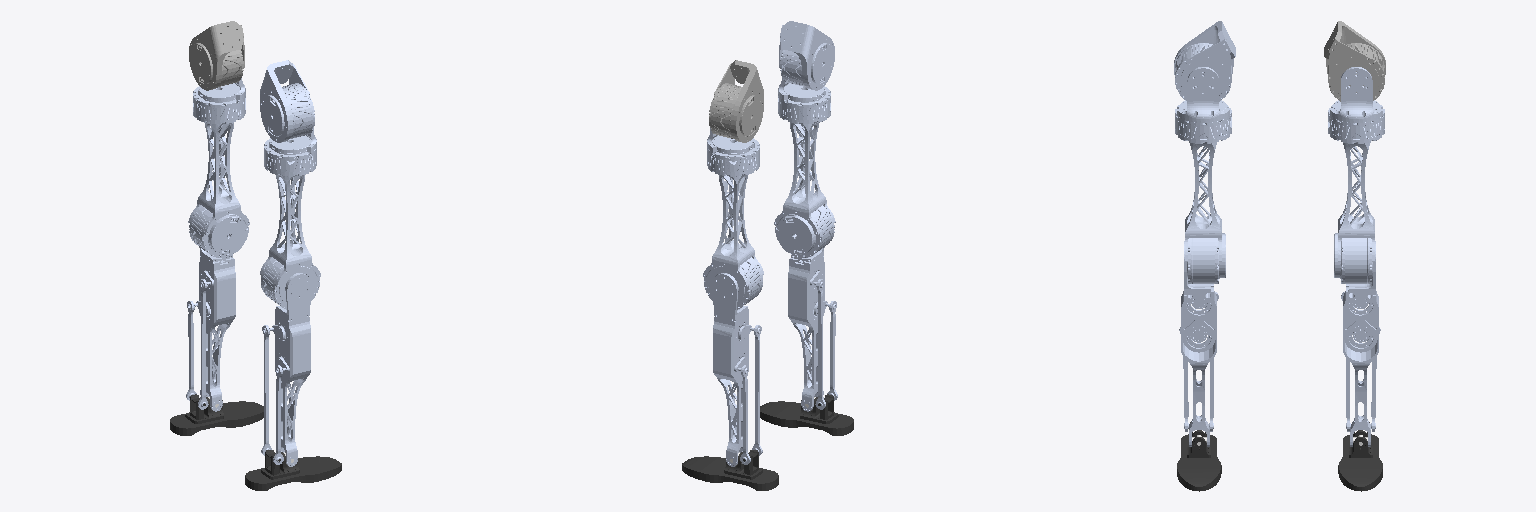
URDF robot description (Roboot1.6):
<?xml version="1.0" encoding="utf-8"?>
<!-- This URDF was automatically created by SolidWorks to URDF Exporter! Originally created by Stephen Brawner (brawner@gmail.com) 
     Commit Version: 1.6.0-4-g7f85cfe  Build Version: 1.6.7995.38578
     For more information, please see http://wiki.ros.org/sw_urdf_exporter -->
     

<robot
  name="Roboot1.6">
  <link
    name="base_link">
    <inertial>
      <origin
        xyz="0.00049152 -3.0954E-08 0.25629"
        rpy="0 0 0" />
      <mass
        value="31.023" />
      <inertia
        ixx="0.26899"
        ixy="4.7185E-10"
        ixz="-2.7449E-06"
        iyy="0.13808"
        iyz="1.2373E-10"
        izz="0.24725" />
    </inertial>
    <visual>
      <origin
        xyz="0 0 0"
        rpy="0 0 0" />
      <geometry>
        <mesh
          filename="meshes/base_link.STL" />
      </geometry>
      <material
        name="">
        <color
          rgba="0.75294 0.75294 0.75294 1" />
      </material>
    </visual>
    <collision>
      <origin
        xyz="0 0 0.21"
        rpy="0 0 0" />
      <geometry>
            <box size="0.2 0.21 0.35"/> <!-- x=30cm, y=20cm, z=40cm -->
            
        <!-- <mesh
          filename="meshes/base_link.STL" /> -->
      </geometry>
    </collision>
  </link>
  <link
    name="right_hip_pitch_link">
    <inertial>
      <origin
        xyz="-0.014554 -0.039773 -0.051175"
        rpy="0 0 0" />
      <mass
        value="2.634" />
      <inertia
        ixx="0.0019805"
        ixy="-0.00012178"
        ixz="-0.00016777"
        iyy="0.0013535"
        iyz="-0.0002698"
        izz="0.00098674" />
    </inertial>
    <visual>
      <origin
        xyz="0 0 0"
        rpy="0 0 0" />
      <geometry>
        <mesh
          filename="meshes/left_hip_pitch_link.STL" />
      </geometry>
      <material
        name="">
        <color
          rgba="0.86667 0.9098 1 1" />
      </material>
    </visual>
    <collision>
      <origin
        xyz="-0.06 -0.06 -0.08"
        rpy="0 1.57 0" />
      <geometry>
         <cylinder radius="0.06" length="0.05"/>
      </geometry> 
    </collision>
  </link>
  <joint
    name="right_hip_pitch_joint"
    type="revolute">
    <origin
      xyz="0.00049158 -0.10845 0.059136"
      rpy="0 0 0" />
    <parent
      link="base_link" />
    <child
      link="right_hip_pitch_link" />
    <axis
      xyz="0 0.90631 0.42262" />
    <limit
      lower="-2.6"
      upper="2.6"
      effort="300"
      velocity="12" />
  </joint>
  <link
    name="right_hip_roll_link">
    <inertial>
      <origin
        xyz="0.0074434 -2.3963E-05 -0.070083"
        rpy="0 0 0" />
      <mass
        value="1.896" />
      <inertia
        ixx="0.00059031"
        ixy="2.2238E-07"
        ixz="1.9516E-05"
        iyy="0.00047163"
        iyz="-2.5199E-07"
        izz="0.00051393" />
    </inertial>
    <visual>
      <origin
        xyz="0 0 0"
        rpy="0 0 0" />
      <geometry>
        <mesh
          filename="meshes/left_hip_roll_link.STL" />
      </geometry>
      <material
        name="">
        <color
          rgba="0.86667 0.9098 1 1" />
      </material>
    </visual>
    <collision>
      <origin
        xyz="0.02 0 0"
        rpy="0 1.57 0" />
      <geometry>
         <cylinder radius="0.06" length="0.02"/>

        <!-- <mesh
          filename="meshes/left_hip_roll_link.STL" /> -->
      </geometry>
    </collision>
  </link>
  <joint
    name="right_hip_roll_joint"
    type="revolute">
    <origin
      xyz="0.019165 -0.058655 -0.083623"
      rpy="0 0 0" />
    <parent
      link="right_hip_pitch_link" />
    <child
      link="right_hip_roll_link" />
    <axis
      xyz="-1 0 0" />
    <limit
      lower="-0.8"
      upper="2"
      effort="300"
      velocity="12" />
  </joint>
  <link
    name="right_hip_yaw_link">
    <inertial>
      <origin
        xyz="5.0405E-05 0.003536 -0.17718"
        rpy="0 0 0" />
      <mass
        value="2.865" />
      <inertia
        ixx="0.0068188"
        ixy="-1.4863E-07"
        ixz="-2.1427E-06"
        iyy="0.0070209"
        iyz="-4.9146E-07"
        izz="0.00093183" />
    </inertial>
    <visual>
      <origin
        xyz="0 0 0"
        rpy="0 0 0" />
      <geometry>
        <mesh
          filename="meshes/left_hip_yaw_link.STL" />
      </geometry>
      <material
        name="">
        <color
          rgba="0.86667 0.9098 1 1" />
      </material>
    </visual>
    <collision>
      <origin
        xyz="0 0 -0.1"
        rpy="0 0 0" />
      <geometry>
          <cylinder radius="0.07" length="0.3"/>

        <!-- <mesh
          filename="meshes/left_hip_yaw_link.STL" /> -->
      </geometry>
    </collision>
  </link>
  <joint
    name="right_hip_yaw_joint"
    type="revolute">
    <origin
      xyz="-0.017415 -0.0036252 -0.14039"
      rpy="0 0 0" />
    <parent
      link="right_hip_roll_link" />
    <child
      link="right_hip_yaw_link" />
    <axis
      xyz="0 0 1" />
    <limit
      lower="-2.6"
      upper="2.6"
      effort="300"
      velocity="12" />
  </joint>
  <link
    name="right_knee_link">
    <inertial>
      <origin
        xyz="-0.01609 0.029412 -0.20201"
        rpy="0 0 0" />
      <mass
        value="2.161" />
      <inertia
        ixx="0.011592"
        ixy="-1.0478E-06"
        ixz="-0.00020792"
        iyy="0.011377"
        iyz="1.7782E-05"
        izz="0.00074756" />
    </inertial>
    <visual>
      <origin
        xyz="0 0 0"
        rpy="0 0 0" />
      <geometry>
        <mesh
          filename="meshes/left_knee_link.STL" />
      </geometry>
      <material
        name="">
        <color
          rgba="0.86667 0.9098 1 1" />
      </material>
    </visual>
    <collision>
      <origin
        xyz="0 0.03 -0.25"
        rpy="0 0 0" />
      <geometry>
           <box size="0.13 0.1 0.35"/>
        <!-- <mesh
          filename="meshes/left_knee_link.STL" /> -->
      </geometry>
    </collision>
  </link>
  <joint
    name="right_knee_joint"
    type="revolute">
    <origin
      xyz="0 -0.0365 -0.298"
      rpy="0 0 0" />
    <parent
      link="right_hip_yaw_link" />
    <child
      link="right_knee_link" />
    <axis
      xyz="0 1 0" />
    <limit
      lower="-0.2"
      upper="1.8"
      effort="300"
      velocity="12" />
  </joint>
  <link
    name="right_ankle_pitch_link">
    <inertial>
      <origin
        xyz="-2.575E-10 -3.6336E-10 4.3692E-12"
        rpy="0 0 0" />
      <mass
        value="0.007" />
      <inertia
        ixx="7.8505E-07"
        ixy="-7.0875E-18"
        ixz="6.7804E-09"
        iyy="5.3402E-07"
        iyz="-4.1848E-16"
        izz="1.1853E-06" />
    </inertial>
    <visual>
      <origin
        xyz="0 0 0"
        rpy="0 0 0" />
      <geometry>
        <mesh
          filename="meshes/left_ankle_pitch_link.STL" />
      </geometry>
      <material
        name="">
        <color
          rgba="1 1 1 1" />
      </material>
    </visual>
    <!-- <collision>
      <origin
        xyz="0 0 0.2"
        rpy="0 0 0" /> -->
      <!-- <geometry>
  
        <mesh
          filename="meshes/left_ankle_pitch_link.STL" />/
      </geometry> -->
    <!-- </collision> -->
  </link>
  <joint
    name="right_ankle_pitch_joint"
    type="revolute">
    <origin
      xyz="-0.013 0.030625 -0.44831"
      rpy="0 0 0" />
    <parent
      link="right_knee_link" />
    <child
      link="right_ankle_pitch_link" />
    <axis
      xyz="0 1 0" />
    <limit
      lower="-0.5"
      upper="1"
      effort="140"
      velocity="5" />
  </joint>
  <link
    name="right_ankle_roll_link">
    <inertial>
      <origin
        xyz="0.0084316 0.00010541 -0.0362"
        rpy="0 0 0" />
      <mass
        value="0.72" />
      <inertia
        ixx="0.00037256"
        ixy="-1.1182E-07"
        ixz="7.1661E-05"
        iyy="0.0023595"
        iyz="-8.0875E-07"
        izz="0.0026349" />
    </inertial>
    <visual>
      <origin
        xyz="0 0 0"
        rpy="0 0 0" />
      <geometry>
        <mesh
          filename="meshes/left_ankle_roll_link.STL" />
      </geometry>
      <material
        name="">
        <color
          rgba="0.29804 0.29804 0.29804 1" />
      </material>
    </visual>
    <collision>
      <origin
        xyz="0 0 0"
        rpy="0 0 0" />
      <geometry>
        <mesh
          filename="meshes/left_ankle_roll_link.STL" />
      </geometry>
    </collision>
  </link>
  <joint
    name="right_ankle_roll_joint"
    type="revolute">
    <origin
      xyz="-0.0023336 0 3.9519E-05"
      rpy="0 0 0" />
    <parent
      link="right_ankle_pitch_link" />
    <child
      link="right_ankle_roll_link" />
    <axis
      xyz="1 0 0" />
    <limit
      lower="-0.4"
      upper="0.4"
      effort="140"
      velocity="5" />
  </joint>
  <link
    name="left_hip_pitch_link">
    <inertial>
      <origin
        xyz="-0.014554 0.052688 -0.057198"
        rpy="0 0 0" />
      <mass
        value="2.634" />
      <inertia
        ixx="0.0019805"
        ixy="0.00012178"
        ixz="-0.00016777"
        iyy="0.0013535"
        iyz="0.0002698"
        izz="0.00098675" />
    </inertial>
    <visual>
      <origin
        xyz="0 0 0"
        rpy="0 0 0" />
      <geometry>
        <mesh
          filename="meshes/right_hip_pitch_link.STL" />
      </geometry>
      <material
        name="">
        <color
          rgba="0.75294 0.75294 0.75294 1" />
      </material>
    </visual>
    <collision>
      <origin
        xyz="-0.06 0.07 -0.09"
        rpy="0 1.57 0" />
      <geometry>
         <cylinder radius="0.06" length="0.05"/>
      </geometry>
    </collision>
  </link>
  <joint
    name="left_hip_pitch_joint"
    type="revolute">
    <origin
      xyz="0.00049158 0.095534 0.065158"
      rpy="0 0 0" />
    <parent
      link="base_link" />
    <child
      link="left_hip_pitch_link" />
    <axis
      xyz="0 0.90631 -0.42262" />
    <limit
      lower="-2.6"
      upper="2.6"
      effort="300"
      velocity="12" />
  </joint>
  <link
    name="left_hip_roll_link">
    <inertial>
      <origin
        xyz="0.023539 2.3928E-05 -0.070083"
        rpy="0 0 0" />
      <mass
        value="1.896" />
      <inertia
        ixx="0.00059031"
        ixy="-2.2205E-07"
        ixz="1.9516E-05"
        iyy="0.00047163"
        iyz="2.5191E-07"
        izz="0.00051393" />
    </inertial>
    <visual>
      <origin
        xyz="0 0 0"
        rpy="0 0 0" />
      <geometry>
        <mesh
          filename="meshes/right_hip_roll_link.STL" />
      </geometry>
      <material
        name="">
        <color
          rgba="0.86667 0.9098 1 1" />
      </material>
    </visual>
    <collision>
      <origin
        xyz="0.04 0 0"
        rpy="0 1.57 0" />
      <geometry>
         <cylinder radius="0.06" length="0.02"/>
      </geometry>
    </collision>
  </link>
  <joint
    name="left_hip_roll_joint"
    type="revolute">
    <origin
      xyz="0.0030702 0.07157 -0.089646"
      rpy="0 0 0" />
    <parent
      link="left_hip_pitch_link" />
    <child
      link="left_hip_roll_link" />
    <axis
      xyz="1 0 0" />
    <limit
      lower="-0.8"
      upper="2"
      effort="300"
      velocity="12" />
  </joint>
  <link
    name="left_hip_yaw_link">
    <inertial>
      <origin
        xyz="5.0461E-05 -0.003536 -0.17717"
        rpy="0 0 0" />
      <mass
        value="2.865" />
      <inertia
        ixx="0.0068188"
        ixy="1.4767E-07"
        ixz="-2.1419E-06"
        iyy="0.0070209"
        iyz="4.9022E-07"
        izz="0.00093183" />
    </inertial>
    <visual>
      <origin
        xyz="0 0 0"
        rpy="0 0 0" />
      <geometry>
        <mesh
          filename="meshes/right_hip_yaw_link.STL" />
      </geometry>
      <material
        name="">
        <color
          rgba="0.86667 0.9098 1 1" />
      </material>
    </visual>
    <collision>
      <origin
        xyz="0 0 -0.1"
        rpy="0 0 0" />
      <geometry>
          <cylinder radius="0.07" length="0.3"/>

      </geometry>
    </collision>
  </link>
  <joint
    name="left_hip_yaw_joint"
    type="revolute">
    <origin
      xyz="-0.0013202 0.0036252 -0.14039"
      rpy="0 0 0" />
    <parent
      link="left_hip_roll_link" />
    <child
      link="left_hip_yaw_link" />
    <axis
      xyz="0 0 -1" />
    <limit
      lower="-2.6"
      upper="2.6"
      effort="300"
      velocity="12" />
  </joint>
  <link
    name="left_knee_link">
    <inertial>
      <origin
        xyz="-0.01609 -0.028559 -0.2037"
        rpy="0 0 0" />
      <mass
        value="2.161" />
      <inertia
        ixx="0.011592"
        ixy="1.0477E-06"
        ixz="-0.00020792"
        iyy="0.011377"
        iyz="-1.778E-05"
        izz="0.00074756" />
    </inertial>
    <visual>
      <origin
        xyz="0 0 0"
        rpy="0 0 0" />
      <geometry>
        <mesh
          filename="meshes/right_knee_link.STL" />
      </geometry>
      <material
        name="">
        <color
          rgba="0.86667 0.9098 1 1" />
      </material>
    </visual>
    <collision>
      <origin
        xyz="0 -0.03 -0.25"
        rpy="0 0 0" />
      <geometry>
           <box size="0.13 0.1 0.35"/>
      </geometry>
    </collision>
  </link>
  <joint
    name="left_knee_joint"
    type="revolute">
    <origin
      xyz="0 0.035647 -0.29631"
      rpy="0 0 0" />
    <parent
      link="left_hip_yaw_link" />
    <child
      link="left_knee_link" />
    <axis
      xyz="0 1 0" />
    <limit
      lower="-0.2"
      upper="1.8"
      effort="300"
      velocity="12" />
  </joint>
  <link
    name="left_ankle_pitch_link">
    <inertial>
      <origin
        xyz="-2.575E-10 3.6334E-10 4.3607E-12"
        rpy="0 0 0" />
      <mass
        value="0.007" />
      <inertia
        ixx="7.8505E-07"
        ixy="-7.0887E-18"
        ixz="6.7804E-09"
        iyy="5.3402E-07"
        iyz="-4.1849E-16"
        izz="1.1853E-06" />
    </inertial>
    <visual>
      <origin
        xyz="0 0 0"
        rpy="0 0 0" />
      <geometry>
        <mesh
          filename="meshes/right_ankle_pitch_link.STL" />
      </geometry>
      <material
        name="">
        <color
          rgba="1 1 1 1" />
      </material>
    </visual>
    <!-- <collision>
      <origin
        xyz="0 0 0"
        rpy="0 0 0" /> -->
      <!-- <geometry>
        <mesh
          filename="meshes/right_ankle_pitch_link.STL" />
      </geometry> -->
    <!-- </collision> -->
  </link>
  <joint
    name="left_ankle_pitch_joint"
    type="revolute">
    <origin
      xyz="-0.013 -0.029772 -0.45"
      rpy="0 0 0" />
    <parent
      link="left_knee_link" />
    <child
      link="left_ankle_pitch_link" />
    <axis
      xyz="0 1 0" />
    <limit
      lower="-0.5"
      upper="1"
      effort="140"
      velocity="5" />
  </joint>
  <link
    name="left_ankle_roll_link">
    <inertial>
      <origin
        xyz="0.006098 -0.00010547 -0.03616"
        rpy="0 0 0" />
      <mass
        value="0.72" />
      <inertia
        ixx="0.00037256"
        ixy="1.105E-07"
        ixz="7.1661E-05"
        iyy="0.0023595"
        iyz="8.0901E-07"
        izz="0.0026349" />
    </inertial>
    <visual>
      <origin
        xyz="0 0 0"
        rpy="0 0 0" />
      <geometry>
        <mesh
          filename="meshes/right_ankle_roll_link.STL" />
      </geometry>
      <material
        name="">
        <color
          rgba="0.29804 0.29804 0.29804 1" />
      </material>
    </visual>
    <collision>
      <origin
        xyz="0 0 0"
        rpy="0 0 0" />
      <geometry>
        <mesh
          filename="meshes/right_ankle_roll_link.STL" />
      </geometry>
    </collision>
  </link>
  <joint
    name="left_ankle_roll_joint"
    type="revolute">
    <origin
      xyz="0 0 0"
      rpy="0 0 0" />
    <parent
      link="left_ankle_pitch_link" />
    <child
      link="left_ankle_roll_link" />
    <axis
      xyz="-1 0 0" />
    <limit
      lower="-0.4"
      upper="0.4"
      effort="140"
      velocity="5" />
  </joint>
</robot>

--- Facts derived from the render (not from the file) ---
Views: 3 orthographic renders of the robot side by side, from view 1: azimuth 30°, elevation 25°; view 2: azimuth 150°, elevation 25°; view 3: azimuth 270°, elevation 25°.
Model Roboot1.6 with 13 links and 12 joints (12 revolute), rooted at base_link, posed every joint at zero.
Links seen in each view (by area): view 1: right_knee_link, left_knee_link, left_hip_yaw_link, right_hip_yaw_link, right_hip_pitch_link, left_hip_pitch_link, right_ankle_roll_link, left_ankle_roll_link, right_hip_roll_link, left_hip_roll_link; view 2: left_knee_link, right_knee_link, right_hip_yaw_link, left_hip_yaw_link, left_hip_pitch_link, right_hip_pitch_link, left_ankle_roll_link, right_ankle_roll_link, left_hip_roll_link, right_hip_roll_link; view 3: right_knee_link, left_knee_link, right_hip_yaw_link, left_hip_yaw_link, right_hip_roll_link, left_hip_roll_link, right_hip_pitch_link, left_hip_pitch_link, left_ankle_roll_link, right_ankle_roll_link.
Boxes of the visible links, x1,y1,x2,y2 form: right_knee_link: (261, 273, 311, 466); left_knee_link: (186, 247, 235, 411); left_hip_yaw_link: (188, 122, 249, 257); right_hip_yaw_link: (260, 175, 320, 309); right_hip_pitch_link: (260, 60, 314, 142); left_hip_pitch_link: (189, 21, 244, 90); right_ankle_roll_link: (245, 450, 341, 490); left_ankle_roll_link: (170, 394, 263, 435); right_hip_roll_link: (264, 128, 316, 176); left_hip_roll_link: (193, 78, 245, 123); left_knee_link: (712, 273, 762, 466); right_knee_link: (788, 247, 837, 411); right_hip_yaw_link: (774, 122, 835, 257); left_hip_yaw_link: (703, 175, 763, 309); left_hip_pitch_link: (709, 60, 763, 142); right_hip_pitch_link: (779, 21, 834, 90); left_ankle_roll_link: (682, 450, 778, 490); right_ankle_roll_link: (760, 394, 853, 435); left_hip_roll_link: (707, 128, 759, 176); right_hip_roll_link: (778, 78, 830, 123); right_knee_link: (1179, 241, 1218, 446); left_knee_link: (1341, 241, 1380, 446); right_hip_yaw_link: (1185, 141, 1225, 283); left_hip_yaw_link: (1334, 141, 1374, 283); right_hip_roll_link: (1175, 67, 1231, 143); left_hip_roll_link: (1328, 67, 1384, 143); right_hip_pitch_link: (1174, 21, 1235, 101); left_hip_pitch_link: (1324, 21, 1385, 101); left_ankle_roll_link: (1338, 422, 1382, 491); right_ankle_roll_link: (1177, 422, 1221, 491).
Size in the robot's own frame: 0.2501 by 0.4642 by 1.06 metres.
Meshes: 13 distinct files referenced, 12 mesh visuals loaded (12 binary STL); not drawn: 1 (reference not matched to a file when rendering).
